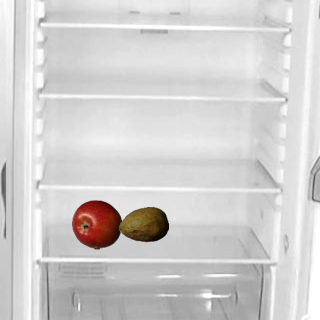Apple Braeburn: (71, 199, 121, 249)
Papaya: (118, 199, 168, 249)
